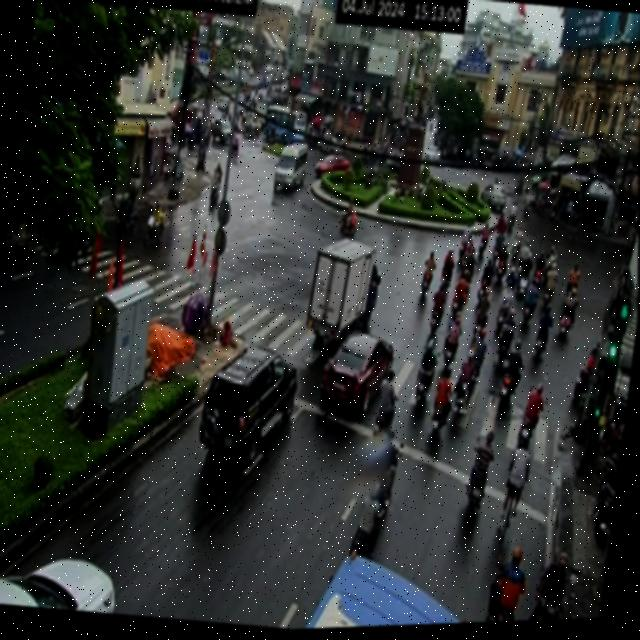Green: (602, 295, 634, 387), (593, 406, 603, 436)
